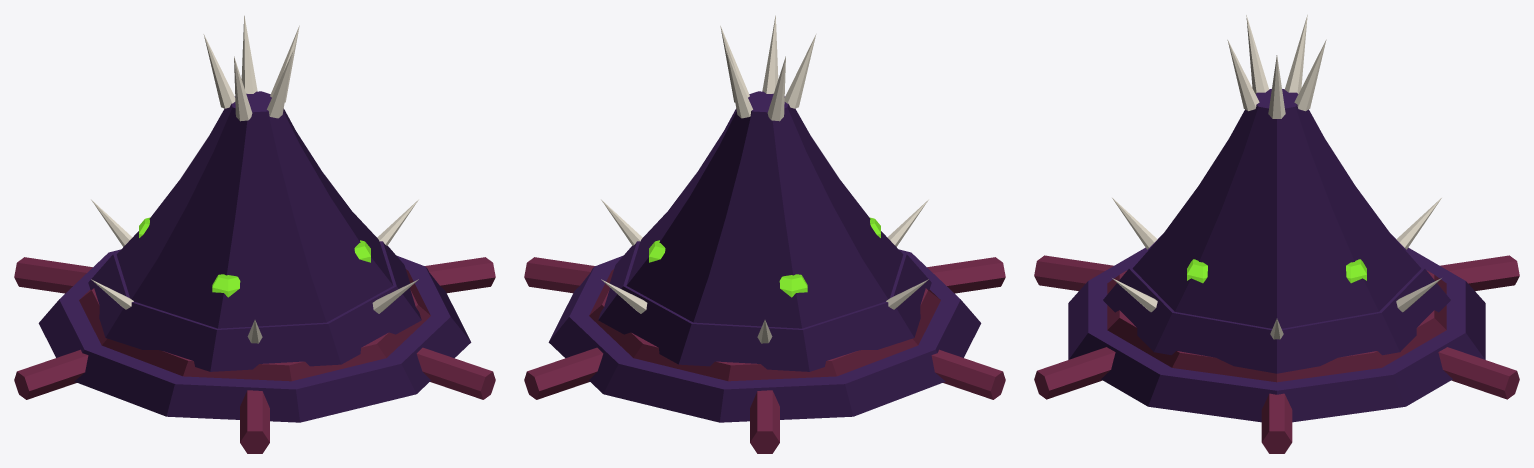
File: krynn_base.obj
3 views of the same model, side by side, from view 1: azimuth 30°, elevation 25°; view 2: azimuth 150°, elevation 25°; view 3: azimuth 270°, elevation 25° (orthographic).
Visible parts, largest first — view 1: ModelMesh; view 2: ModelMesh; view 3: ModelMesh.
Part boxes in pixels (x1,y1,x2,y2): ModelMesh: [14, 15, 495, 453]; ModelMesh: [524, 15, 1005, 453]; ModelMesh: [1034, 15, 1519, 453].
Bounding box in the file's own units: 1.25 × 0.7802 × 1.12.
